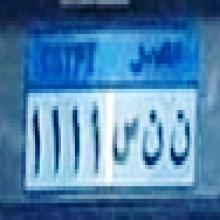1: (88, 96, 102, 184), (68, 101, 83, 175), (29, 104, 43, 180), (52, 102, 64, 175)
noon: (140, 104, 164, 177), (169, 107, 192, 174)
seen: (112, 103, 138, 173)
